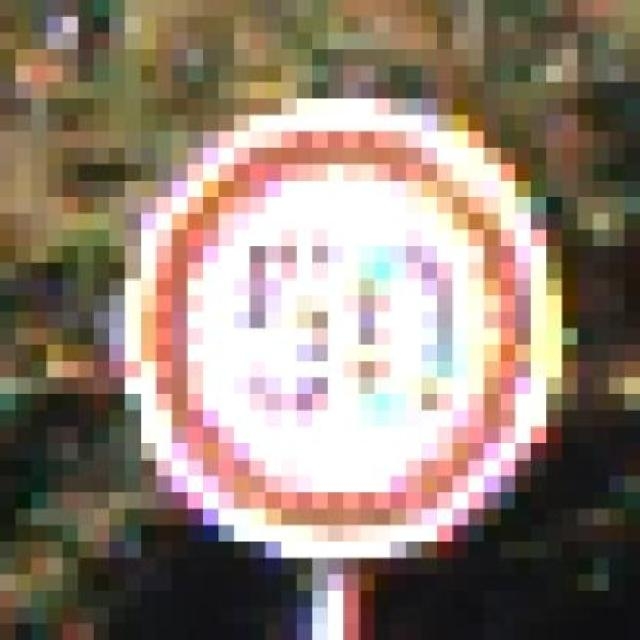forb_speed_over_50: (149, 122, 532, 540)
